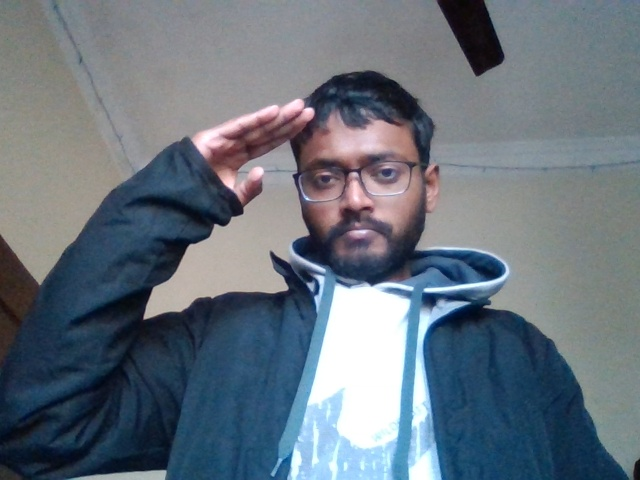salam: (165, 96, 343, 191)
